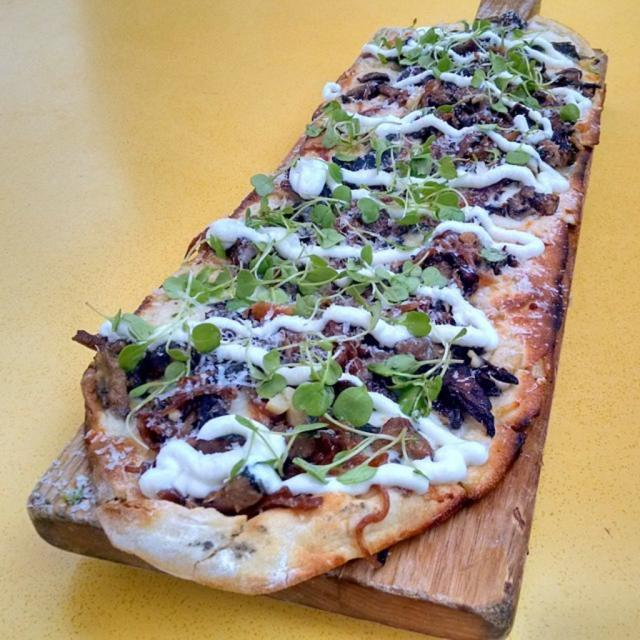Pizza: (14, 56, 606, 578)
